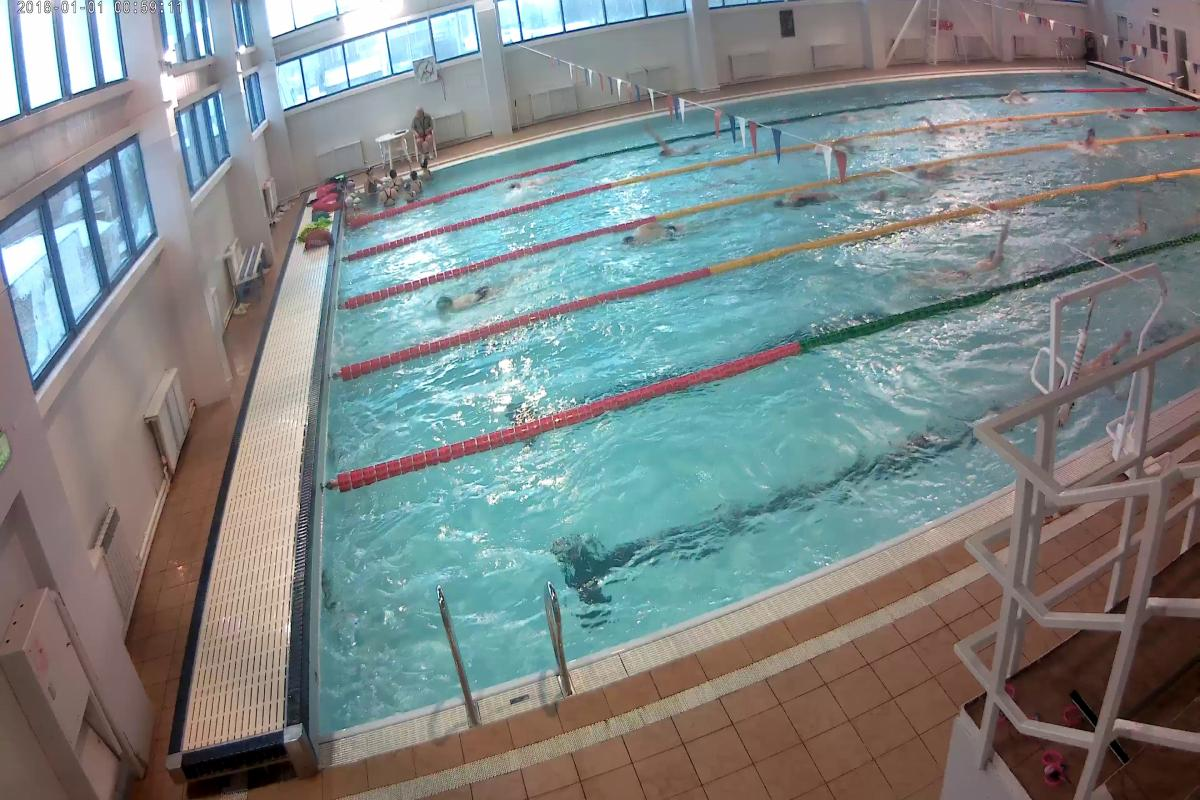swimmer: (602, 219, 706, 255), (430, 282, 526, 314), (1086, 216, 1148, 254), (777, 188, 855, 216), (939, 263, 1008, 291), (1070, 137, 1118, 169), (878, 185, 913, 201)
